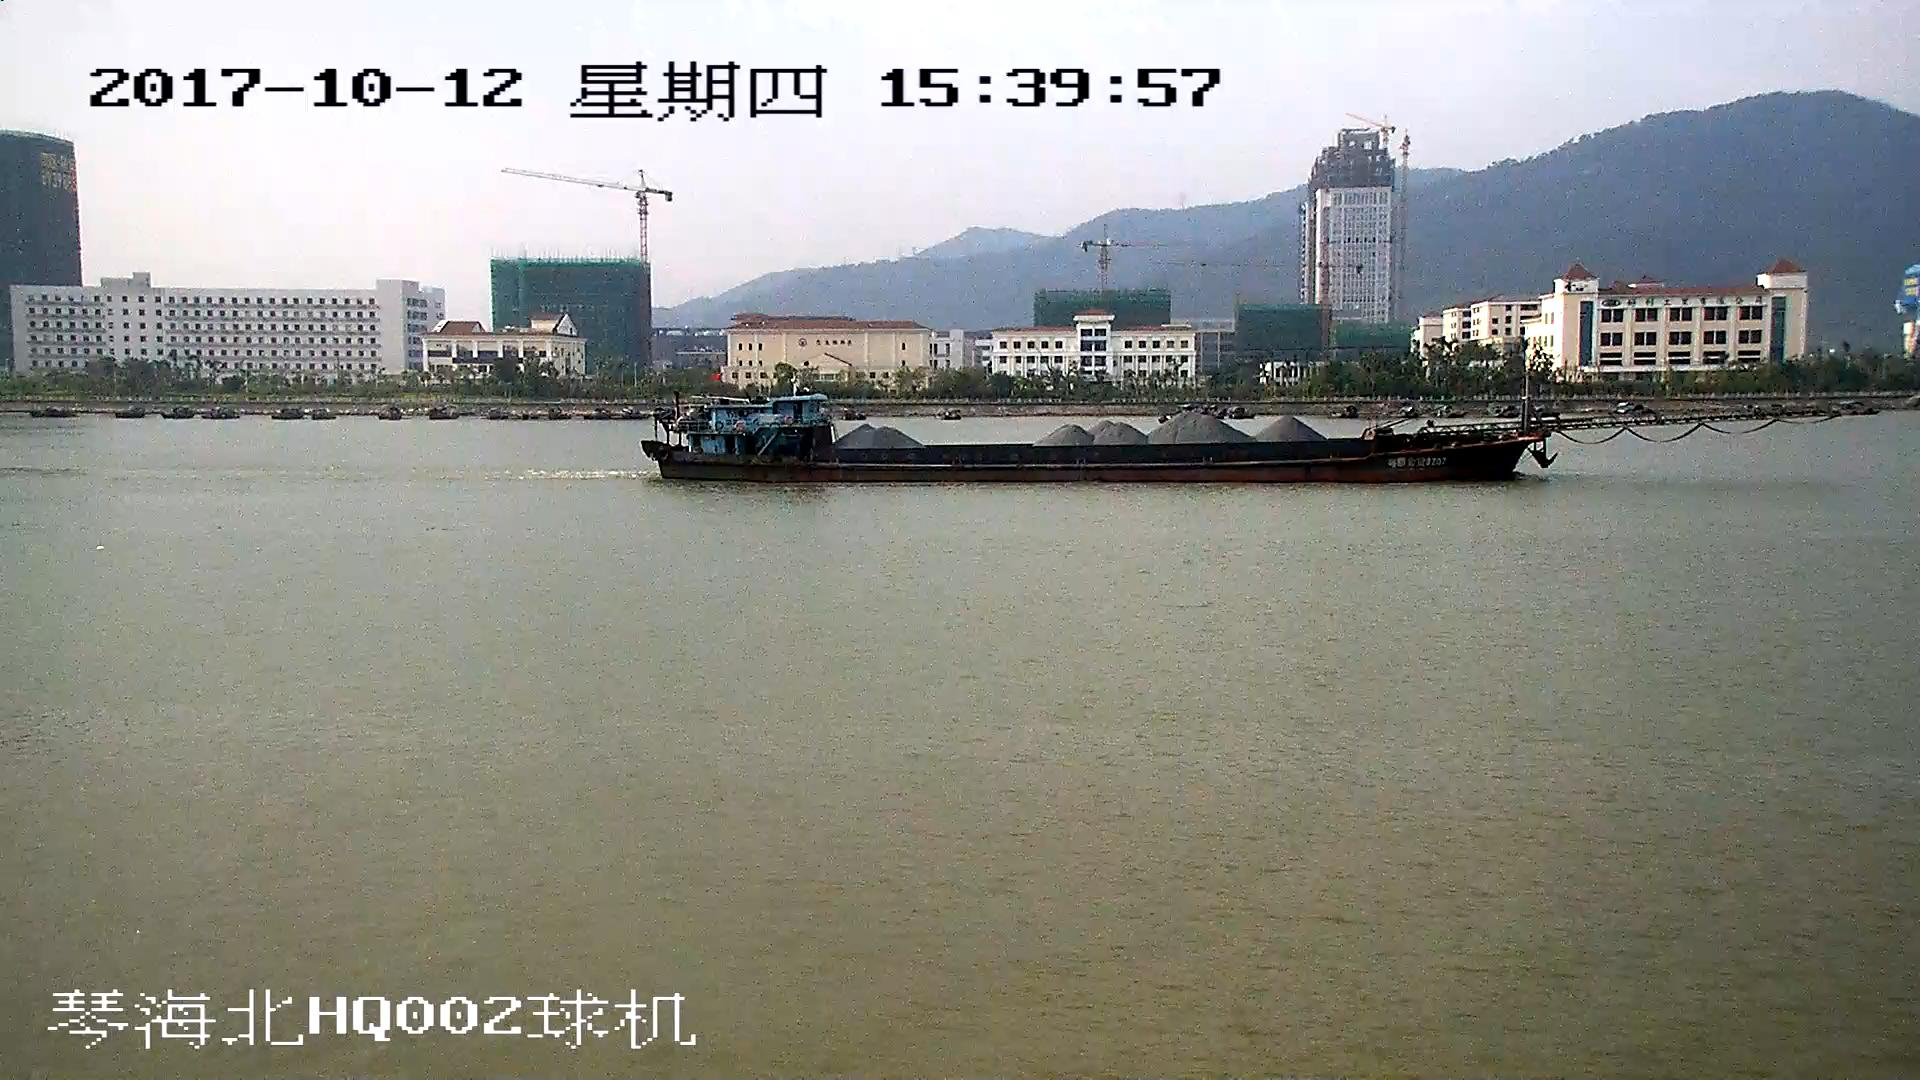ore carrier: (641, 371, 1794, 483)
